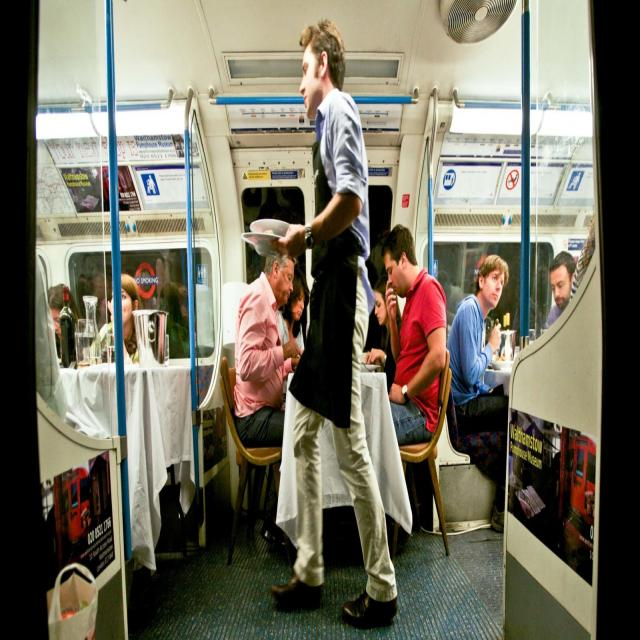body: (264, 16, 401, 627), (446, 254, 509, 534), (376, 223, 448, 448), (232, 240, 306, 454), (88, 271, 143, 365), (275, 266, 311, 408), (364, 277, 404, 396), (148, 243, 188, 325), (46, 281, 85, 360), (546, 250, 576, 331), (89, 242, 108, 316), (438, 265, 464, 319)
